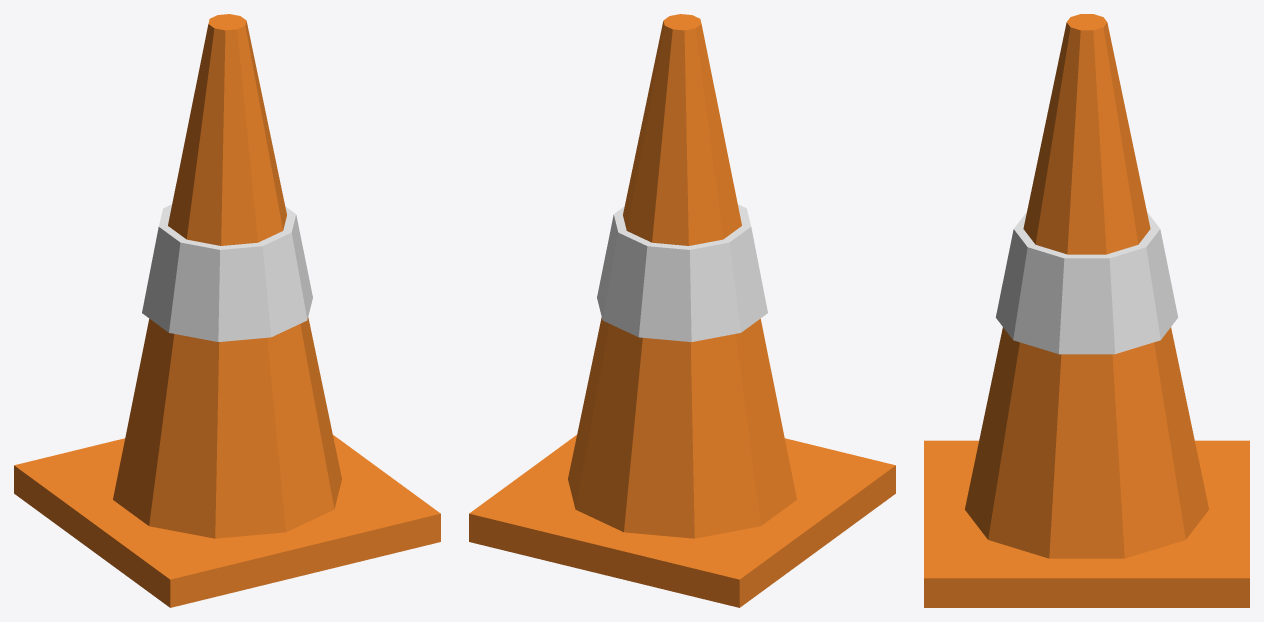
Rendered from TrafficCone.fbx.
3 views of the same model, side by side, from view 1: azimuth 30°, elevation 25°; view 2: azimuth 150°, elevation 25°; view 3: azimuth 270°, elevation 25° (orthographic). The views are drawn at different scales.
Visible parts, largest first — view 1: TrafficCone; view 2: TrafficCone; view 3: TrafficCone.
Part boxes in pixels (x1,y1,x2,y2): TrafficCone: (14, 14, 440, 607); TrafficCone: (469, 14, 895, 607); TrafficCone: (924, 14, 1249, 607).
Bounding box in the file's own units: 0.4 × 0.7 × 0.4.
